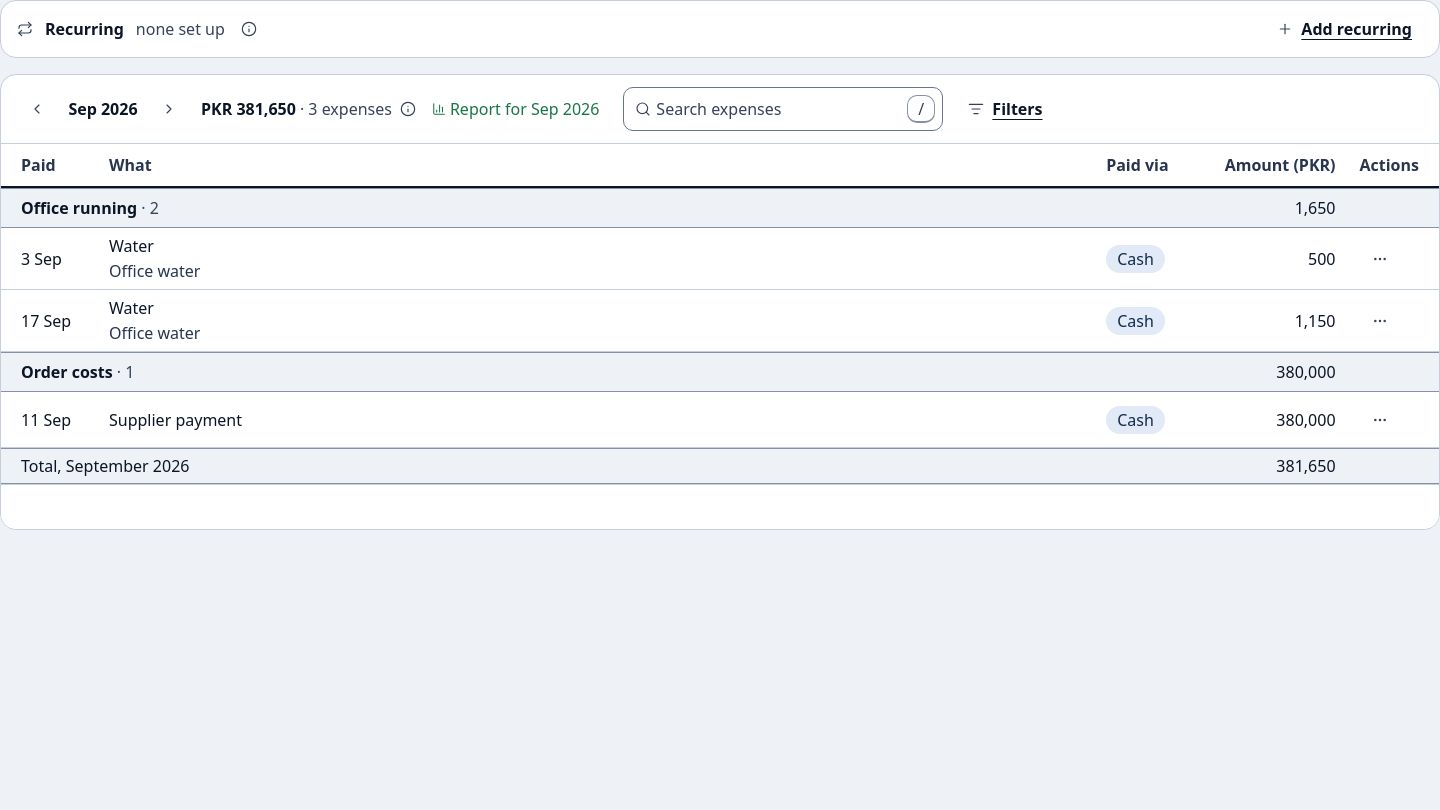
Test: Expenses list (0086) › delete asks once, then runs at once; the toast comes after the server confirms
Expected: the element with test id "expenses-month-total" is shown, [201,97,420,121]
Click the button named "More for Supplier payment of 380000": x=1380, y=420 [1360,400,1400,440]
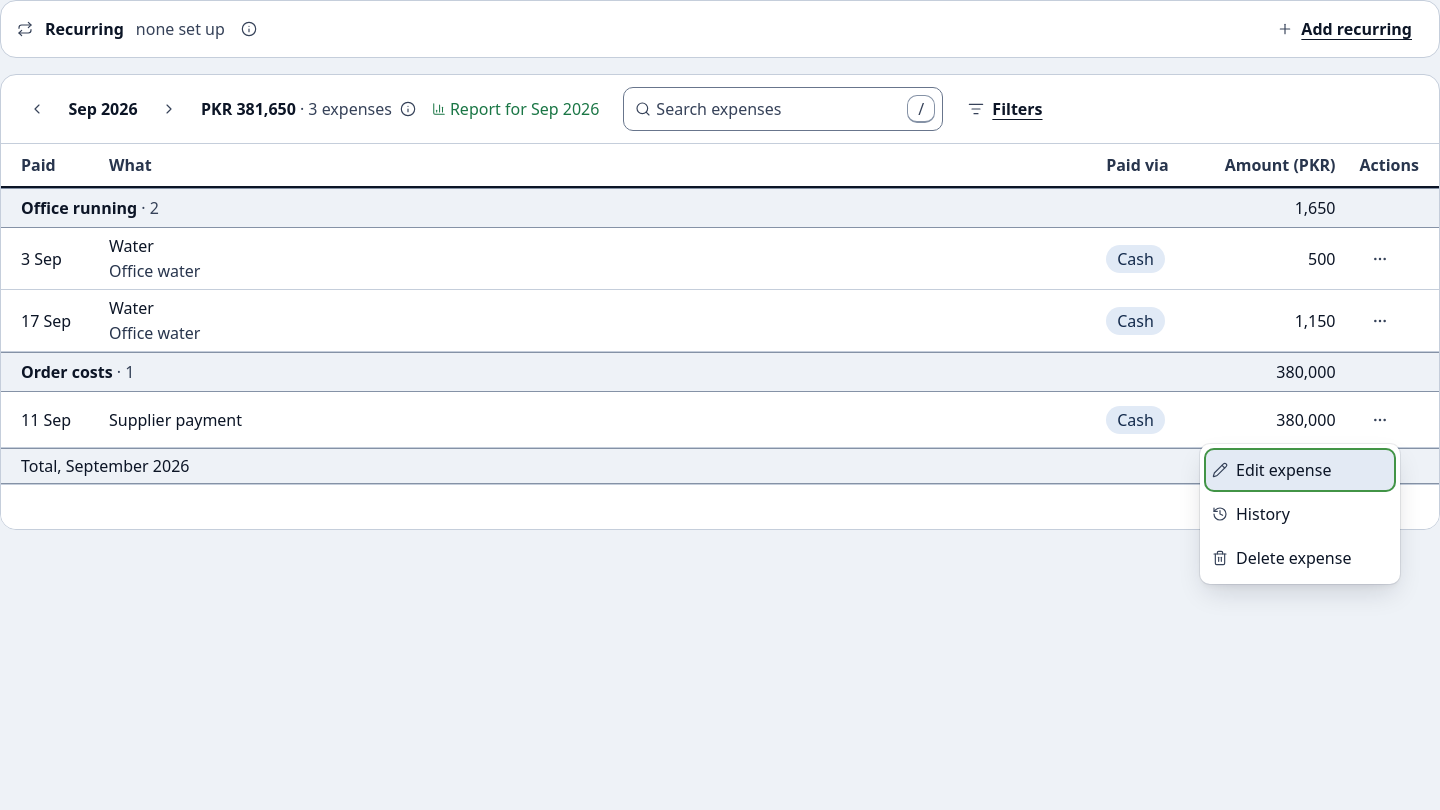
Click the menu item "Delete expense": x=1300, y=558 [1204,536,1396,580]
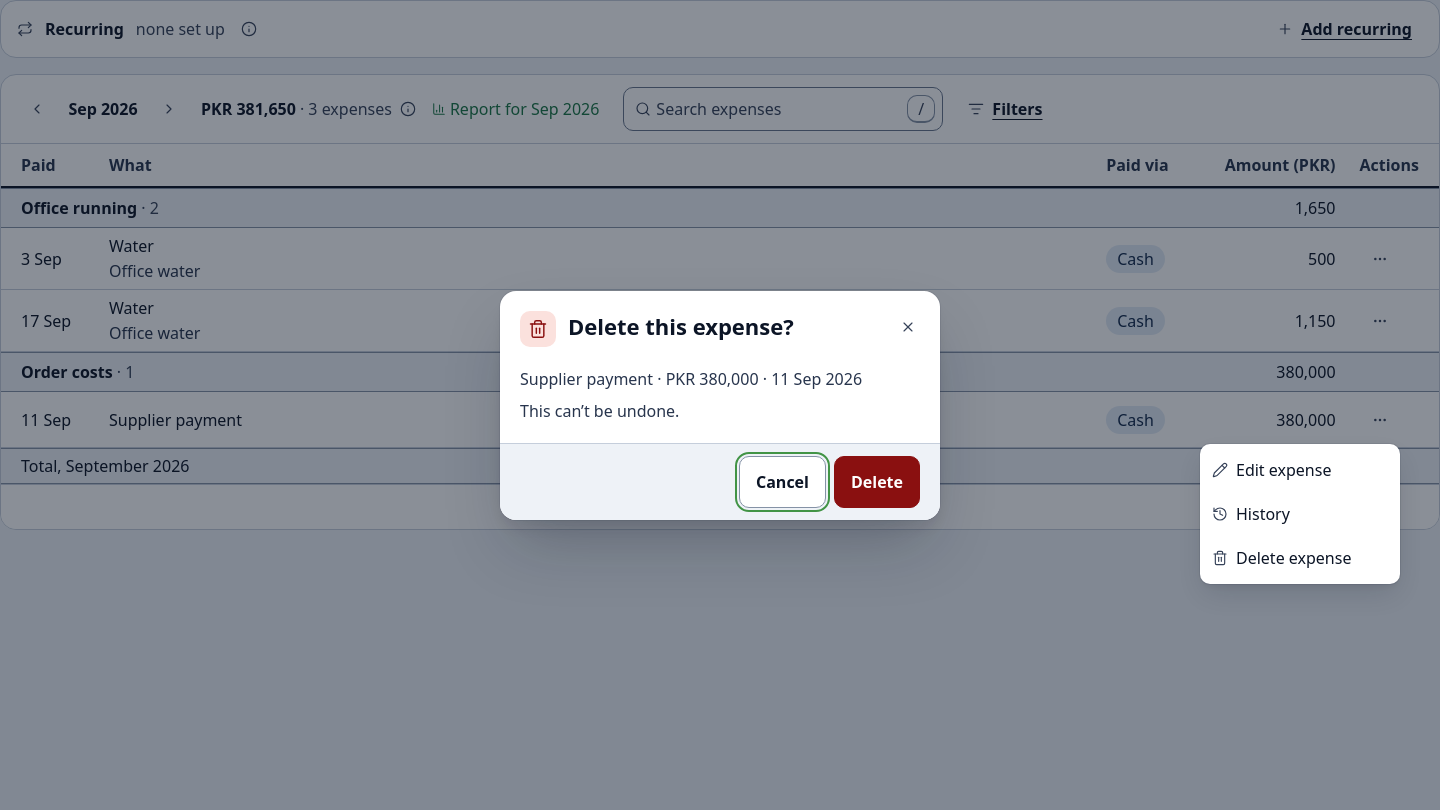
Expected: the text with test id "delete-expense-what" reads "Supplier payment · PKR 380,000 · 11 Sep 2026", [520,368,862,390]
Expected: the text "This can’t be undone." is shown, [520,400,679,422]
Click the button "Delete": x=877, y=482 [834,456,920,508]
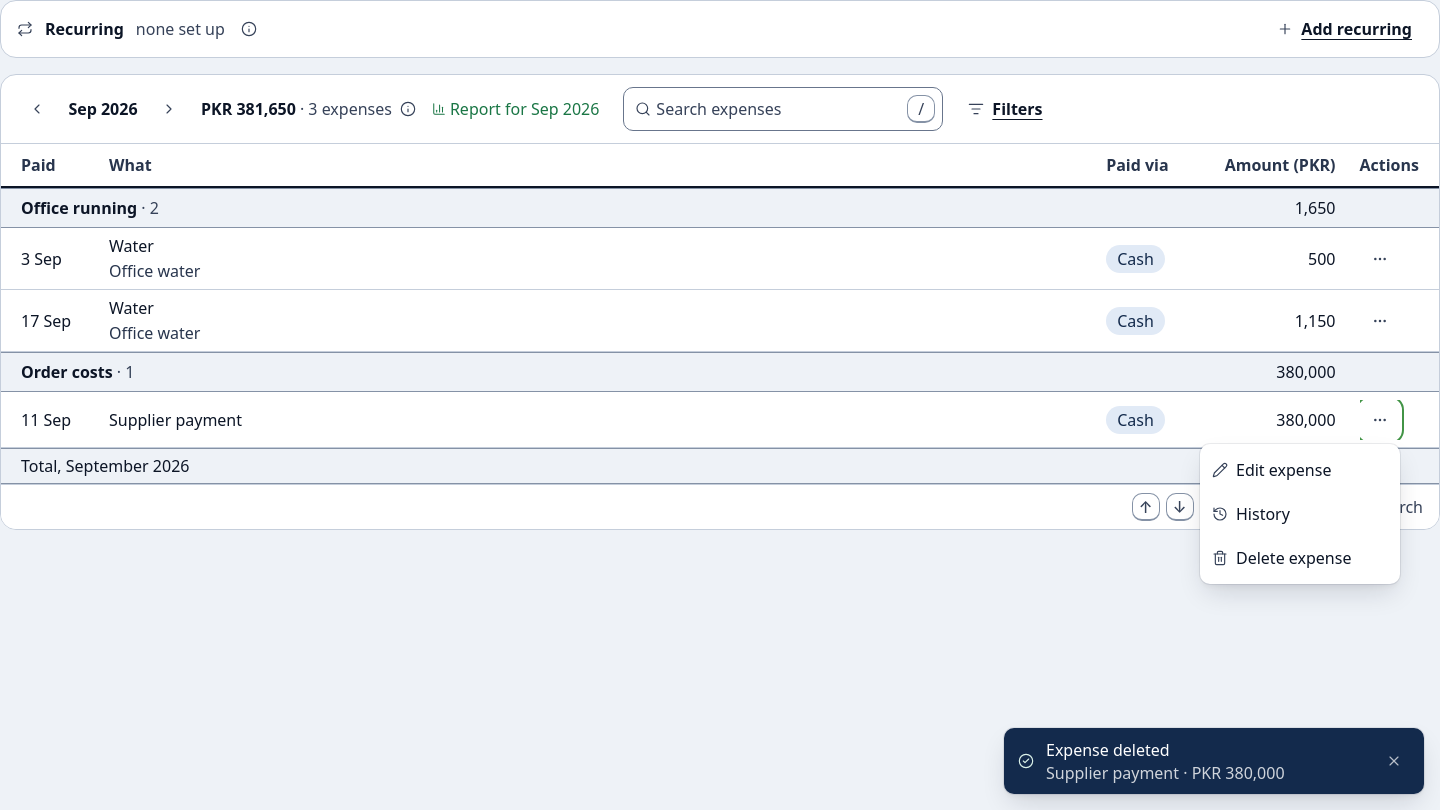
Expected: the text "Expense deleted" is shown, [1046,739,1170,761]
Expected: the text "undo" is gone
